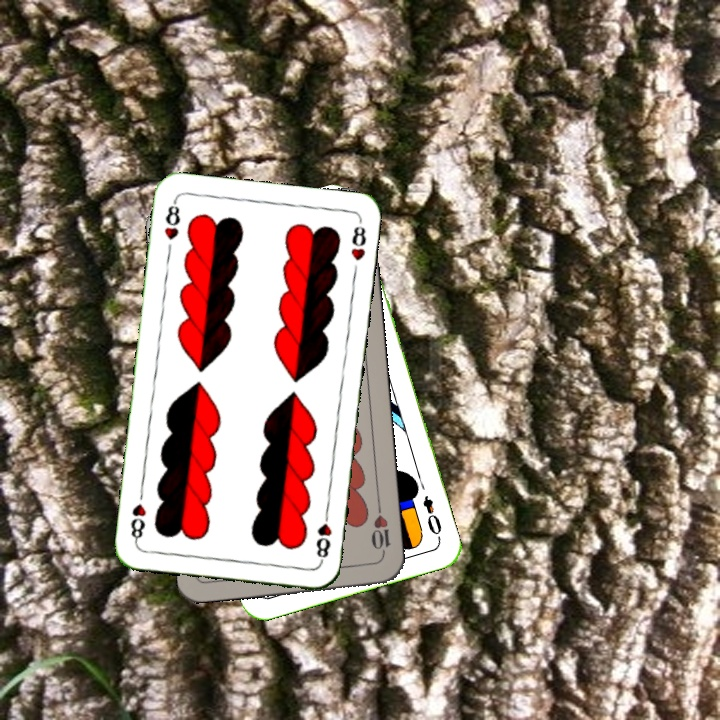EO: (418, 491, 444, 542)
H10: (367, 501, 394, 560)
H8: (312, 506, 334, 565), (160, 197, 183, 243)
